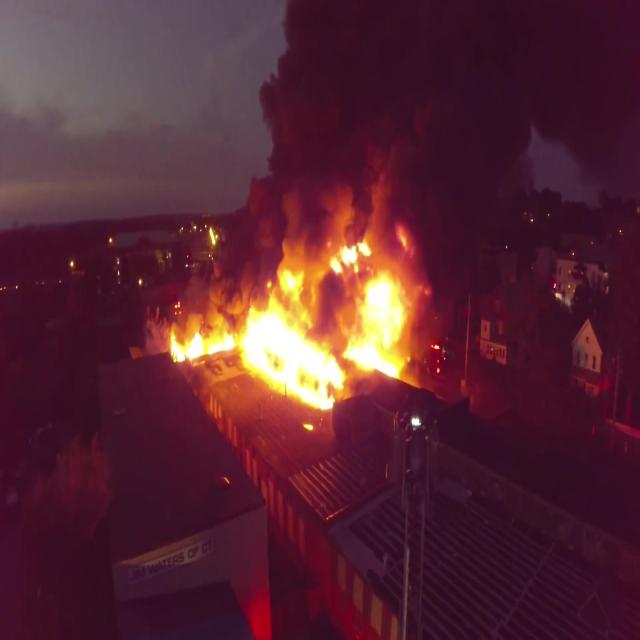fire: (236, 312, 330, 410), (364, 272, 402, 348)
smoke: (295, 6, 629, 190)
